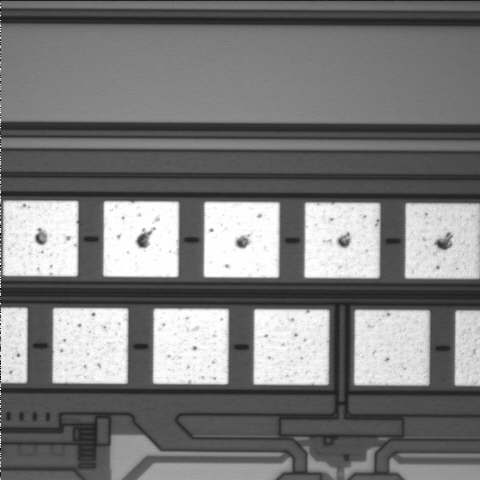pad: (103, 201, 179, 277), (204, 202, 280, 278), (304, 203, 380, 278), (53, 308, 128, 384), (153, 309, 229, 384), (254, 309, 329, 385), (354, 310, 430, 385), (3, 201, 78, 276)
